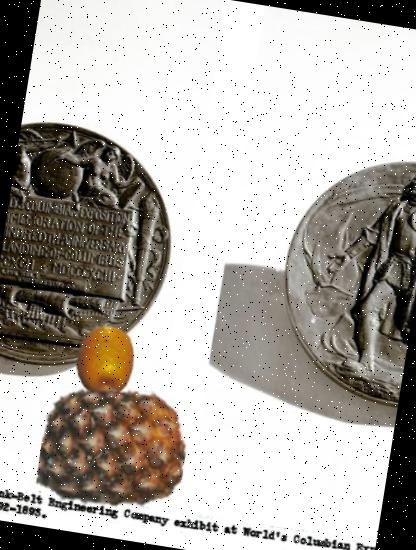Kumquats: (63, 319, 148, 404)
Pineapple: (31, 366, 196, 531)
